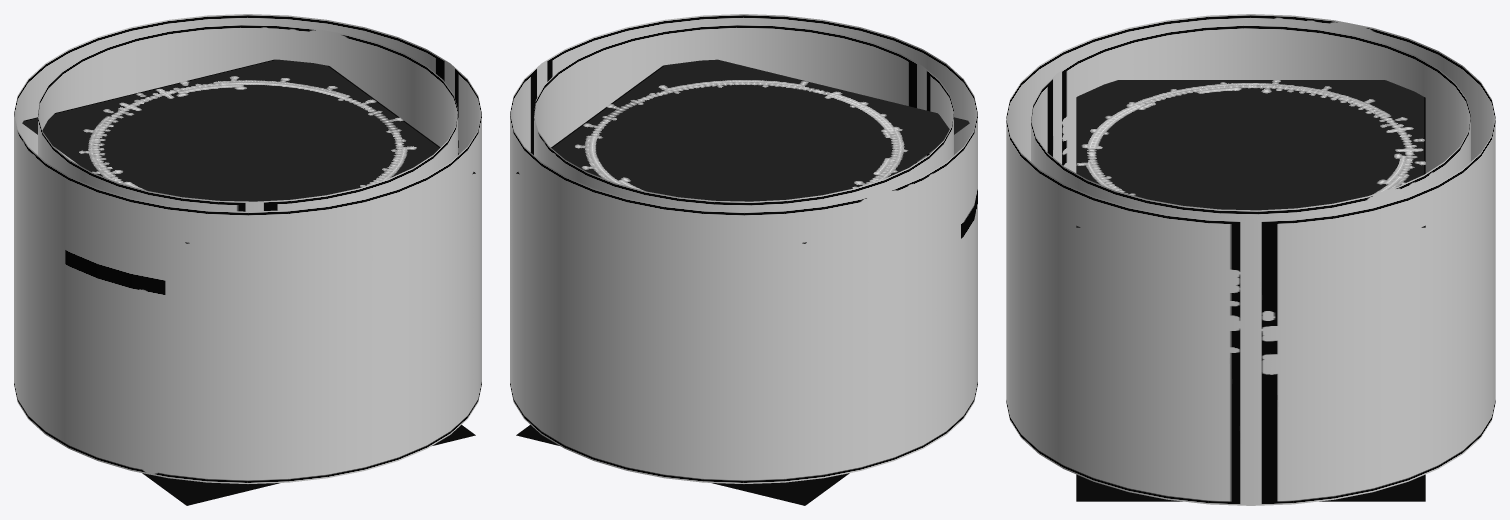
The picture shows the model from 3 angles, left to right: view 1: azimuth 30°, elevation 25°; view 2: azimuth 150°, elevation 25°; view 3: azimuth 270°, elevation 25°; orthographic projection. The views are drawn at different scales.
Parts seen in each view (by area): view 1: tube1, mid, tube2, base; view 2: tube1, mid, tube2, base; view 3: tube1, mid, tube2, base.
Boxes of the visible parts, box(x1,y1,x2,y2) form: tube1: box(14, 14, 481, 483); mid: box(22, 59, 475, 243); tube2: box(38, 24, 457, 211); base: box(142, 425, 475, 505); tube1: box(510, 14, 977, 483); mid: box(516, 59, 969, 243); tube2: box(534, 24, 953, 211); base: box(516, 425, 849, 505); tube1: box(1006, 14, 1495, 505); mid: box(1076, 80, 1425, 227); tube2: box(1031, 24, 1470, 220); base: box(1076, 474, 1425, 501).
Size of the model in its own units: 14 by 9.8 by 14.
Materials: 5 (4 with a texture image).
